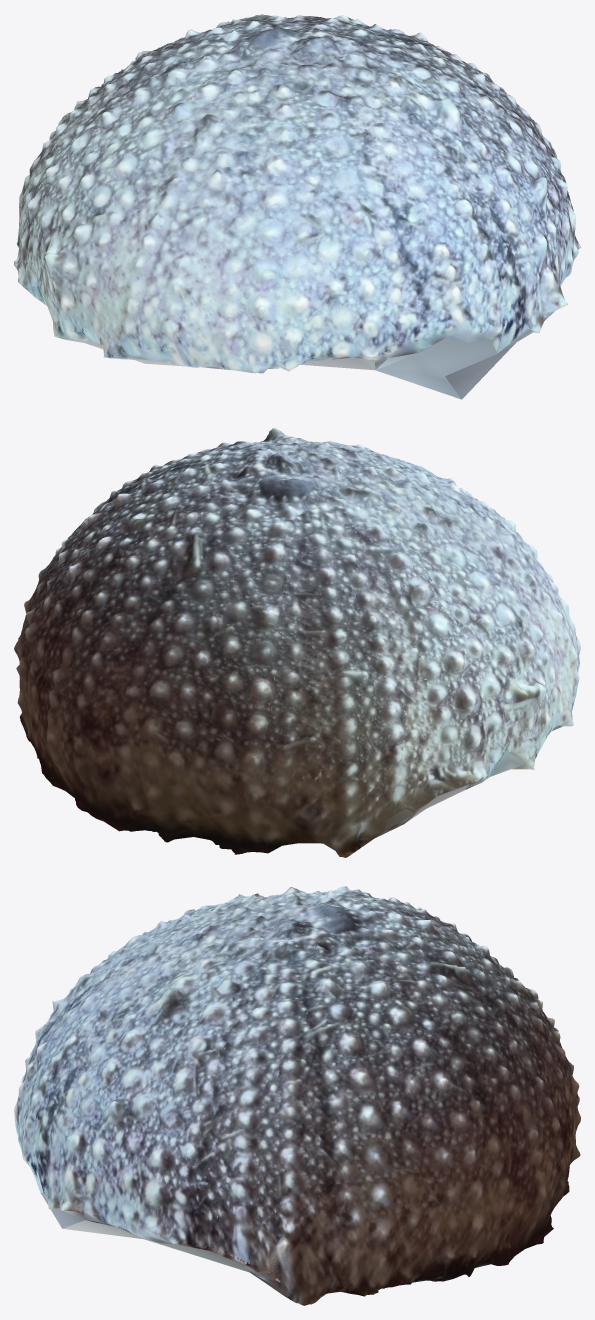
File: igac.glb
The picture shows the model from 3 angles, top to bottom: view 1: azimuth 30°, elevation 25°; view 2: azimuth 150°, elevation 25°; view 3: azimuth 270°, elevation 25°; orthographic projection.
Visible parts, largest first — view 1: model; view 2: model; view 3: model.
Boxes of the visible parts, box(x1,y1,x2,y2) form: model: box(14, 14, 580, 399); model: box(14, 428, 580, 857); model: box(14, 886, 580, 1305).
Bounding box in the file's own units: 0.0719 × 0.0391 × 0.069.
1 material, 1 textured.
